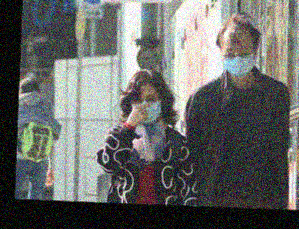with_mask: (129, 92, 162, 127), (219, 44, 255, 76)
